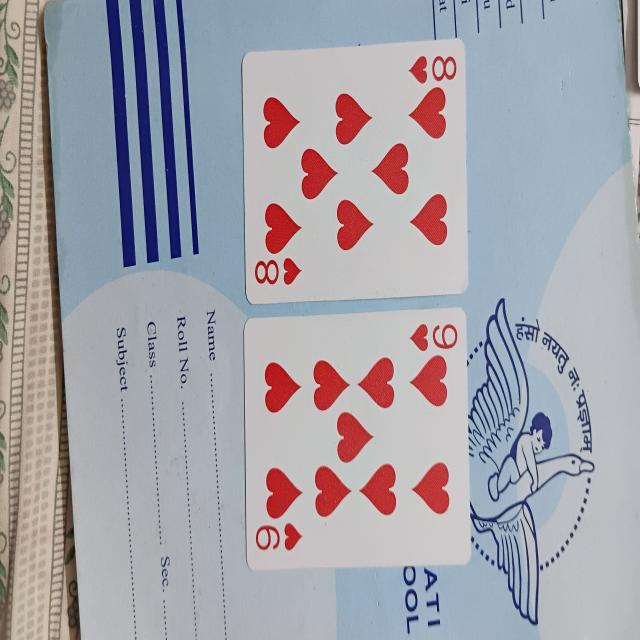8H: (245, 39, 471, 294)
9H: (246, 310, 472, 564)
